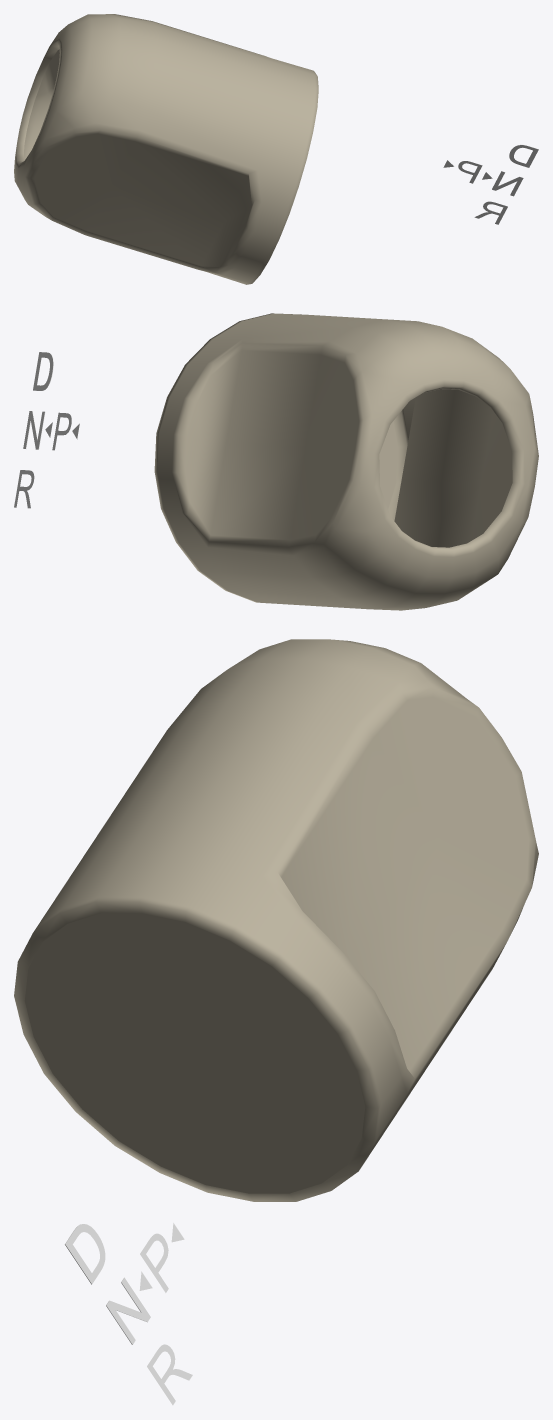
Rendered from shift_dial.fbx.
3 renders of one model, top to bottom at view 1: azimuth 30°, elevation 25°; view 2: azimuth 150°, elevation 25°; view 3: azimuth 270°, elevation 25°, orthographic. The views are drawn at different scales.
Visible parts, largest first — view 1: shift_dial, Text001; view 2: shift_dial, Text001, N_ON, D_ON; view 3: shift_dial, Text001, D_ON.
Part boxes in pixels (<box>): shift_dial: <box>14,14,318,284</box>; Text001: <box>458,145,537,224</box>; shift_dial: <box>154,313,538,610</box>; Text001: <box>14,359,71,508</box>; N_ON: <box>23,411,45,449</box>; D_ON: <box>33,352,53,390</box>; shift_dial: <box>14,639,538,1201</box>; Text001: <box>99,1233,192,1405</box>; D_ON: <box>65,1224,105,1284</box>.
Bounding box in the file's own units: 8.58 × 4.66 × 4.9.
